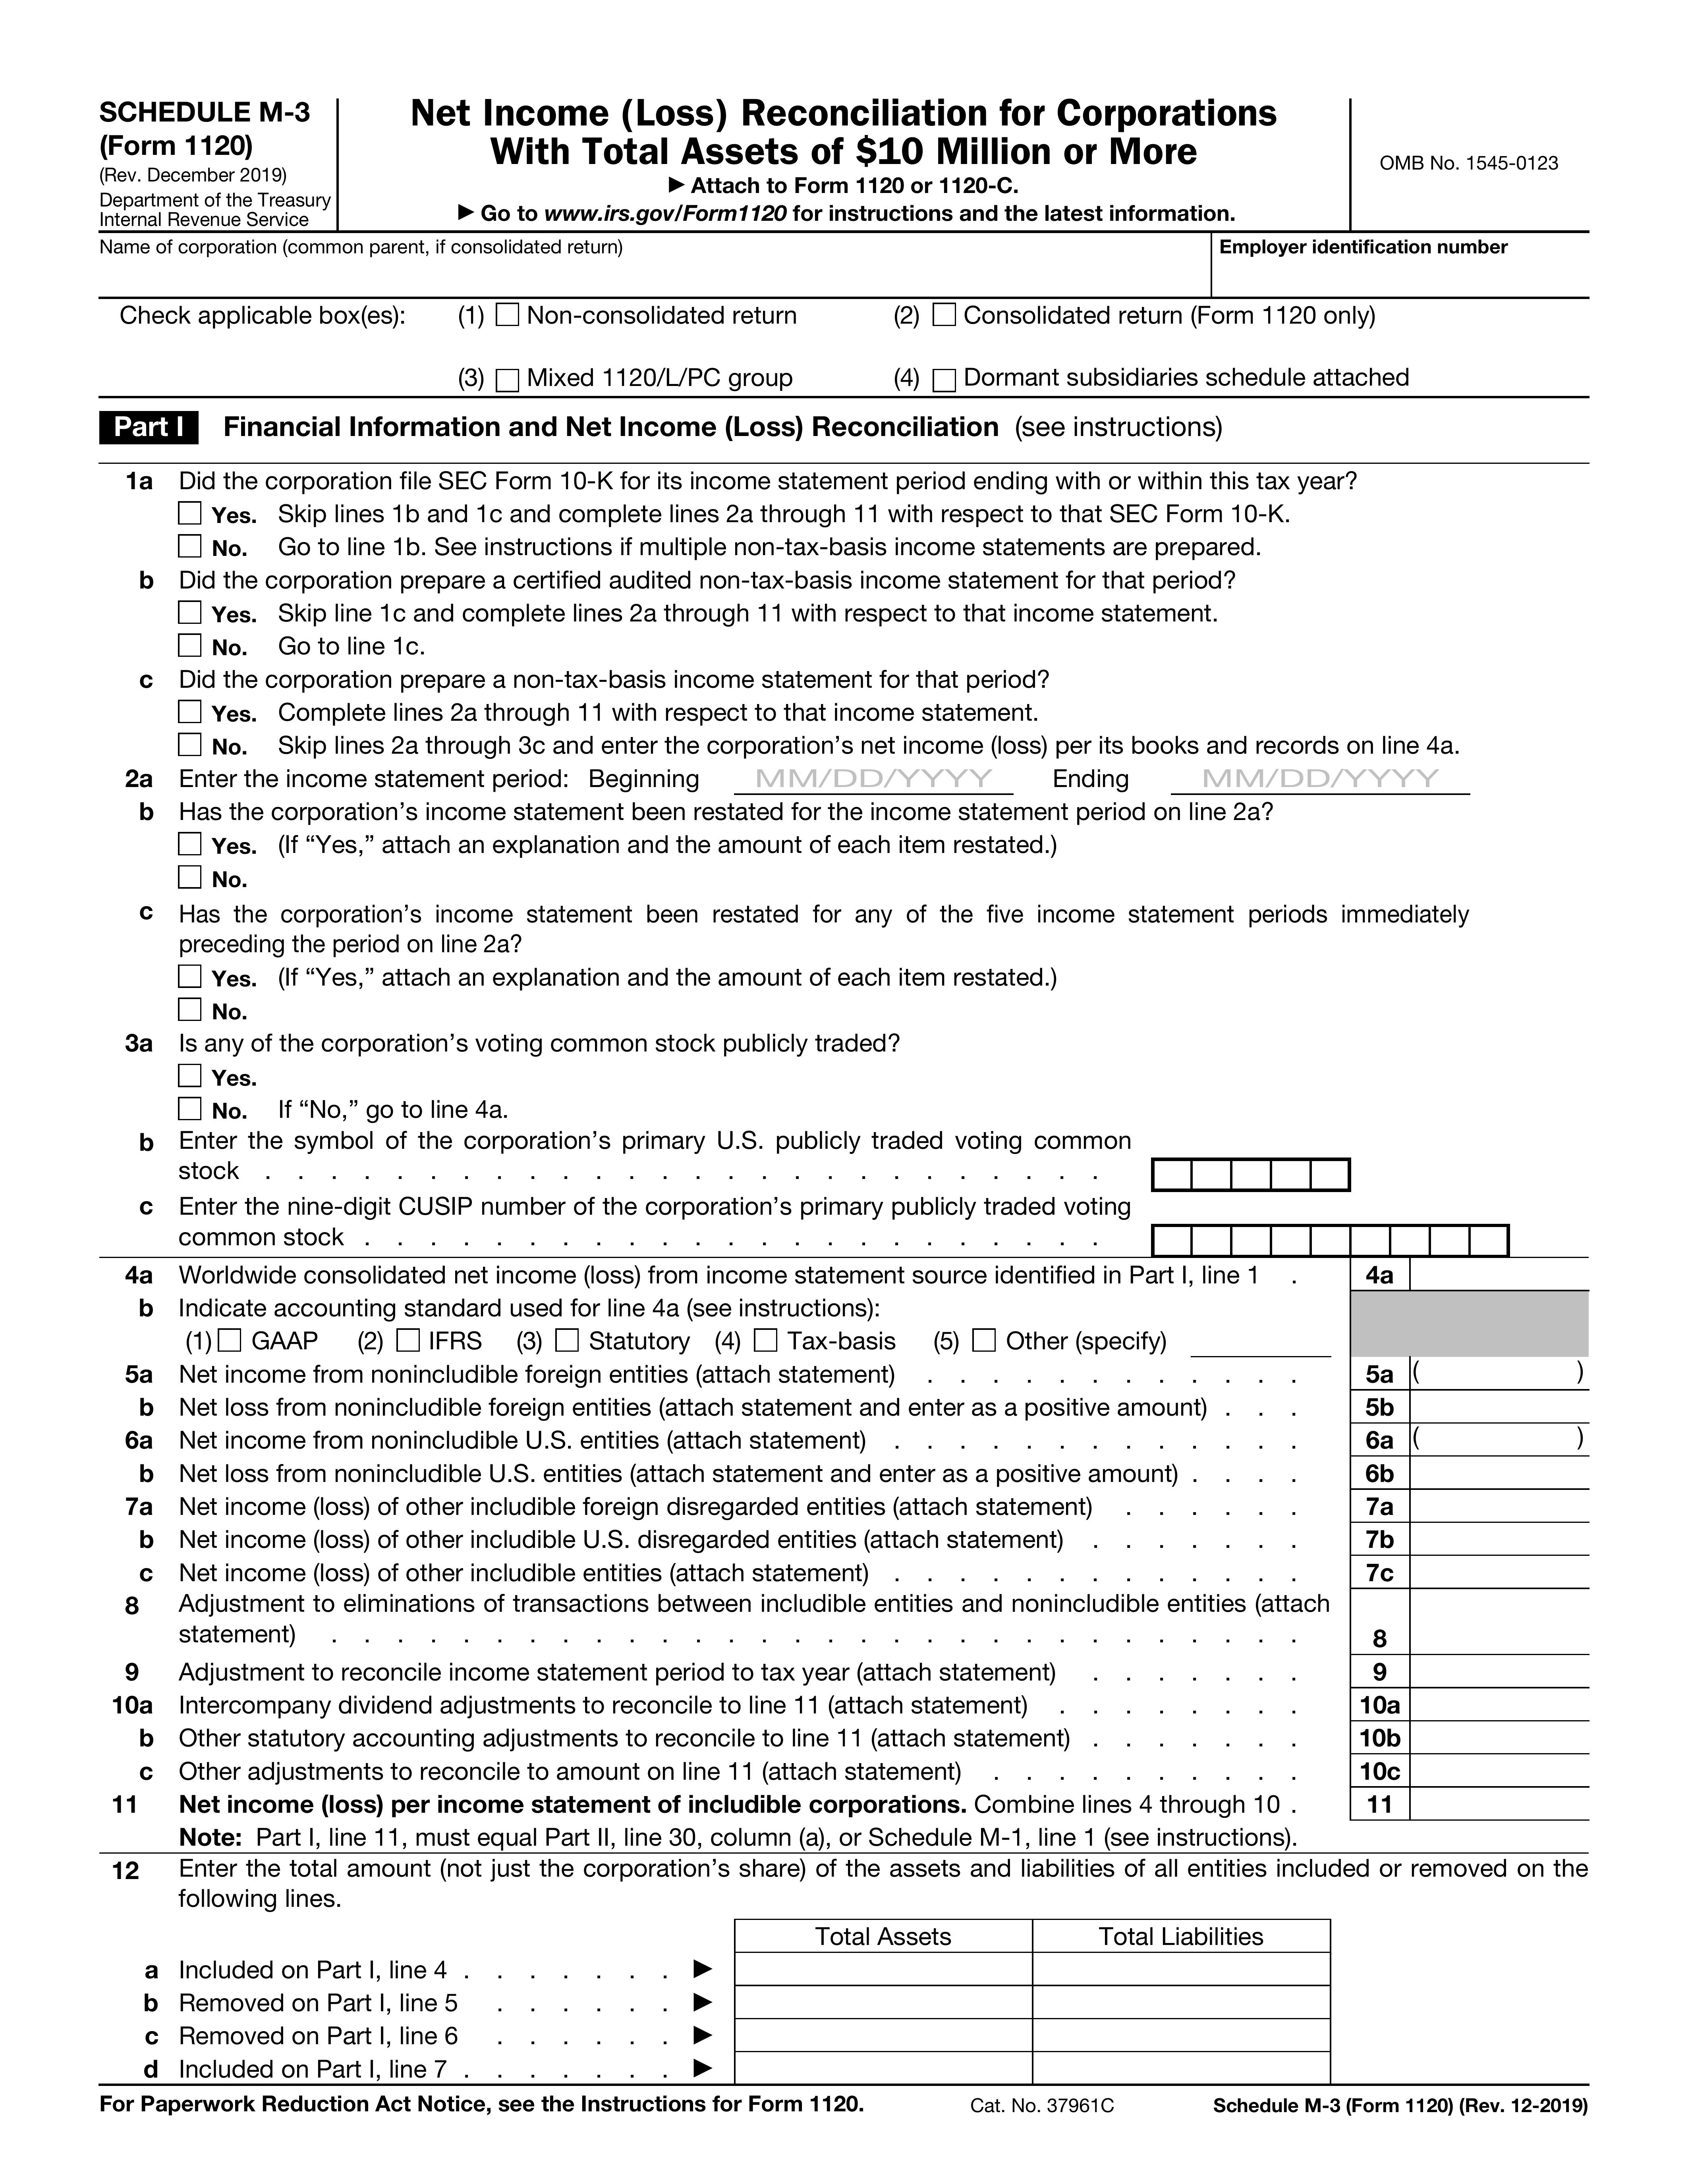form: (85, 78, 1617, 296)
table: (92, 1262, 1642, 1915), (722, 1907, 1339, 2088)
